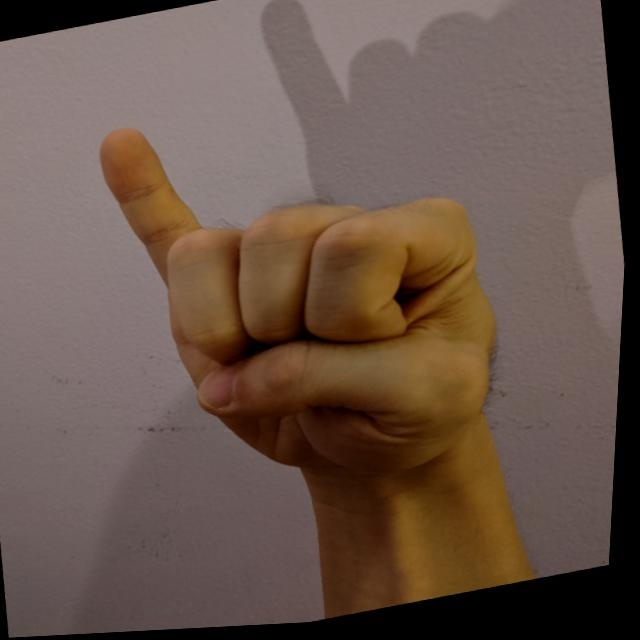I: (74, 56, 538, 530)
